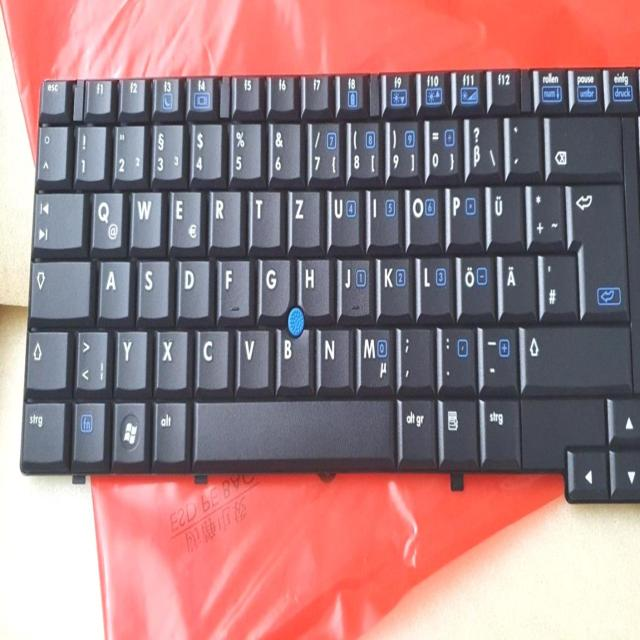0: (426, 116, 460, 179)
1: (73, 121, 105, 181)
2: (112, 121, 144, 180)
3: (149, 120, 183, 180)
4: (189, 119, 221, 178)
5: (227, 119, 261, 178)
6: (267, 119, 300, 179)
7: (308, 119, 341, 181)
8: (348, 119, 379, 180)
9: (387, 118, 419, 179)
a: (97, 256, 130, 317)
accent: (505, 112, 540, 176)
ae: (497, 250, 534, 316)
alt-left: (152, 398, 186, 462)
altgr-right: (397, 395, 434, 462)
b: (275, 324, 310, 387)
c: (194, 325, 228, 389)
caret: (36, 123, 67, 179)
comma: (397, 322, 431, 389)
d: (175, 255, 210, 318)
del: (546, 112, 621, 176)
e: (168, 187, 201, 248)
enter: (563, 179, 629, 315)
f: (216, 255, 249, 316)
g: (257, 253, 290, 313)
h: (296, 254, 329, 312)
hash: (538, 250, 576, 317)
i: (367, 185, 400, 247)
j: (338, 254, 371, 318)
k: (377, 253, 411, 316)
keyboard: (18, 71, 640, 504)
l: (416, 253, 451, 318)
less: (73, 326, 107, 389)
m: (355, 323, 392, 391)
minus: (480, 322, 516, 389)
n: (315, 322, 350, 387)
o: (406, 184, 440, 247)
oe: (457, 250, 494, 317)
p: (446, 183, 482, 247)
plus: (527, 179, 563, 245)
point: (438, 323, 475, 391)
q: (89, 187, 123, 249)
r: (207, 188, 241, 248)
s: (136, 256, 169, 318)
shift-left: (24, 328, 67, 390)
shift-lock: (30, 257, 91, 318)
shift-right: (520, 321, 633, 389)
space: (193, 396, 392, 461)
ss: (464, 112, 499, 176)
strg-left: (19, 398, 65, 463)
strg-right: (479, 395, 519, 464)
t: (247, 187, 280, 246)
tab: (32, 188, 83, 248)
u: (327, 186, 361, 248)
ue: (485, 180, 522, 247)
v: (235, 322, 269, 387)
w: (129, 186, 161, 247)
x: (154, 326, 186, 388)
y: (113, 326, 147, 388)
z: (287, 187, 320, 247)
